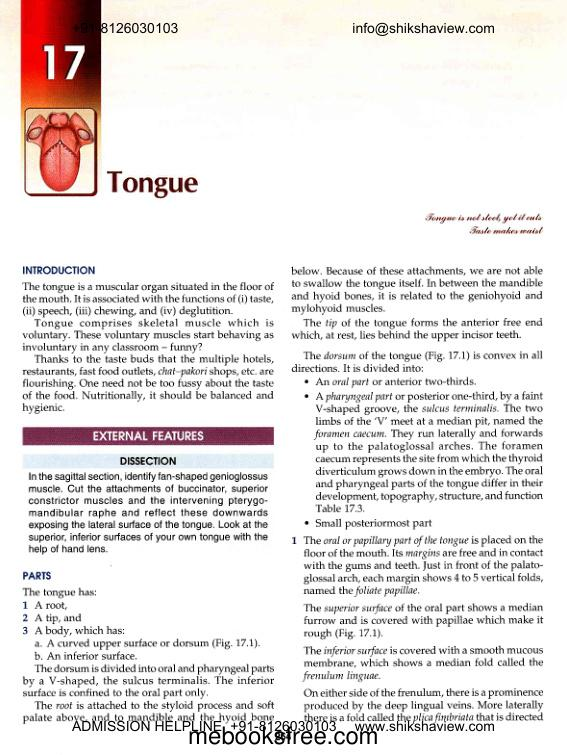caption: (119, 455, 177, 467)
chapter-heading: (102, 167, 200, 201)
list: (301, 376, 545, 531), (20, 599, 262, 661)
section-heading: (92, 429, 205, 442), (21, 264, 97, 276)
sub-section-heading: (21, 570, 53, 581)
text: (301, 533, 544, 723), (20, 280, 276, 416), (289, 264, 545, 373), (27, 470, 270, 557), (21, 662, 276, 723), (21, 586, 98, 599)
